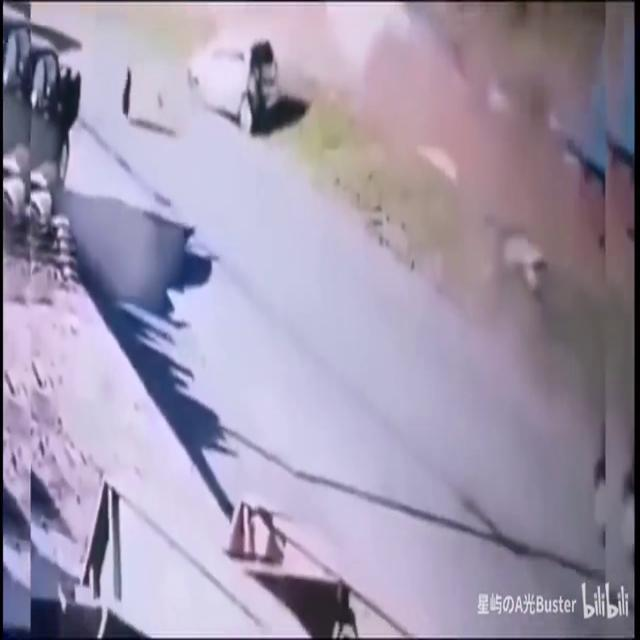multiple_accident: (2, 2, 320, 152)
